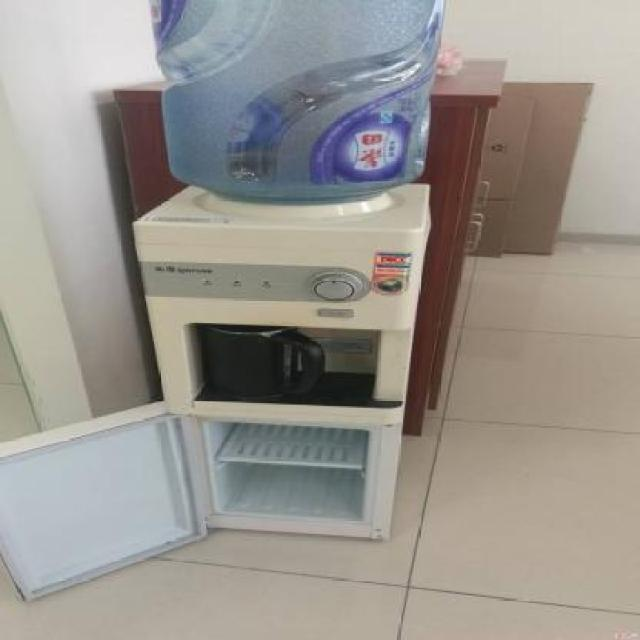coolerbottle: (144, 0, 458, 212)
